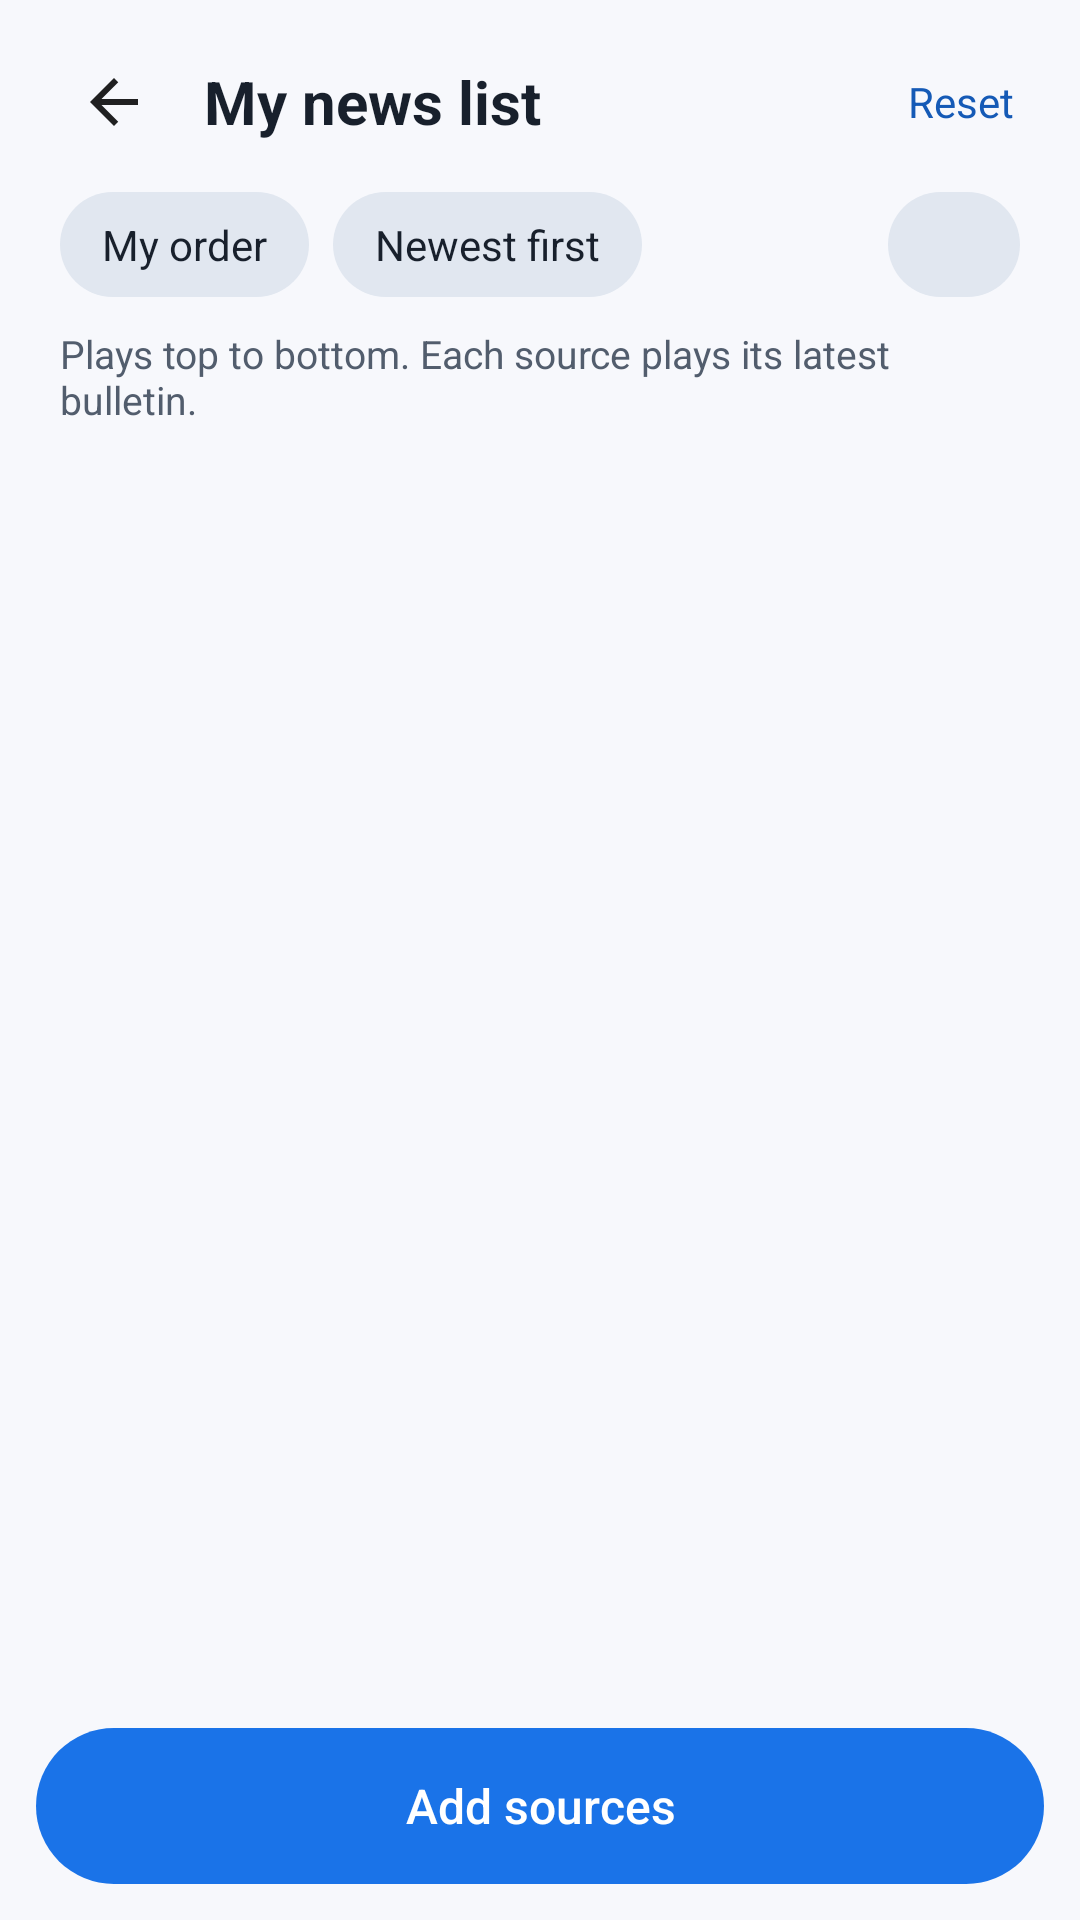

Where icons sit on this 1080px x 1920px app screen, as (x1, y1, x2, y2):
Back: (90, 78, 138, 126)
